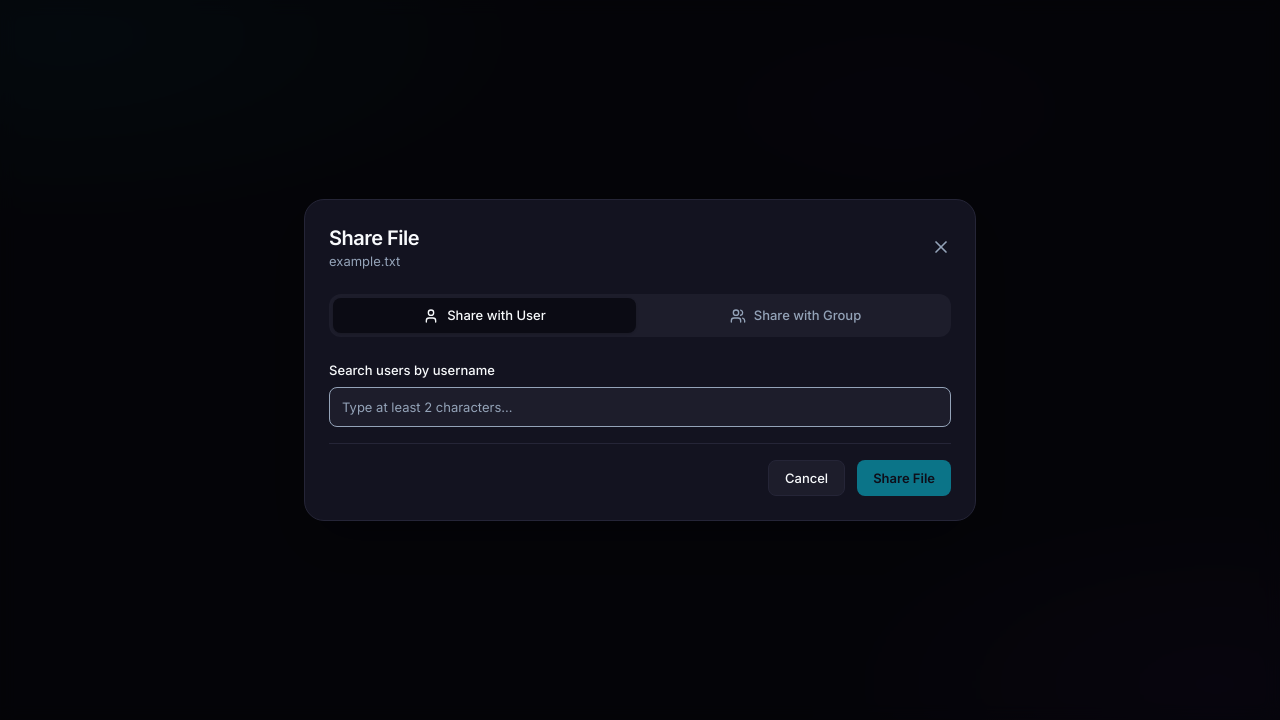
direct sharing uses the real lookup and verifies file access › reports lookup unavailability instead of pretending no recipient exists
This screenshot has width=1280, height=720.
Step 1. Type "ada" into the field labelled "Search users by username" → (640, 407), box 329,387 -> 951,427
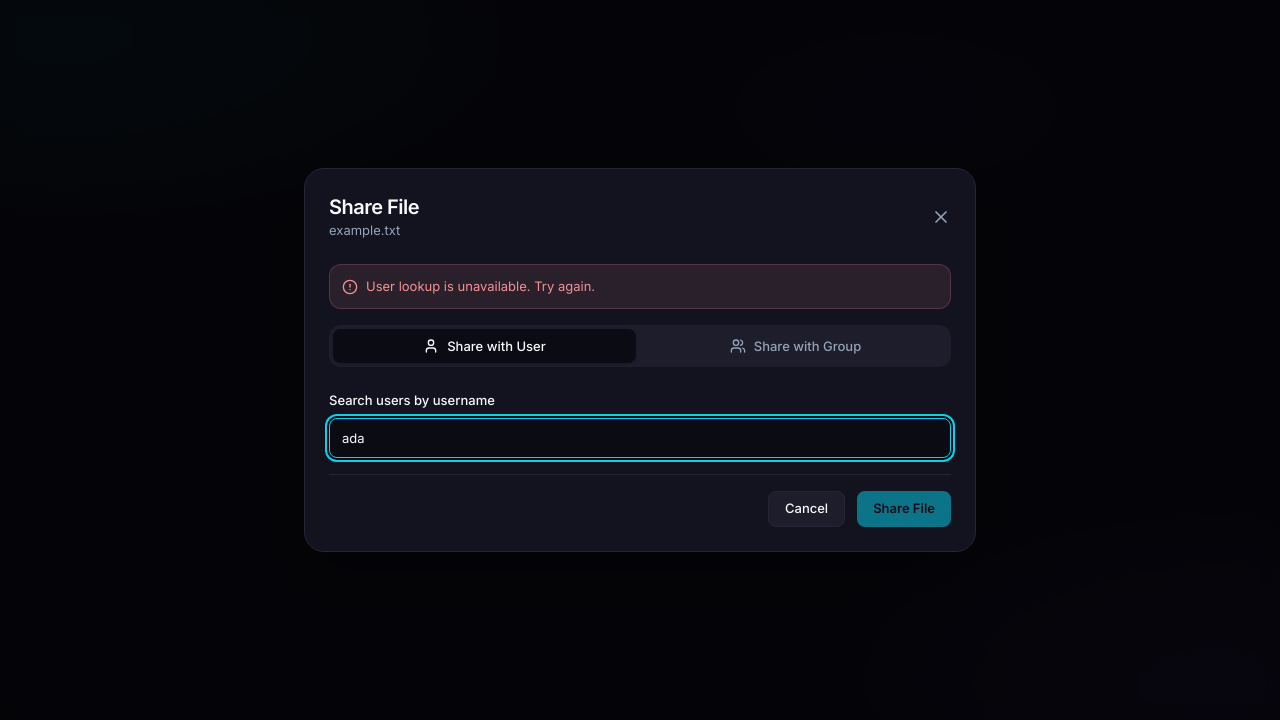
Check: the text "User lookup is unavailable. Try again." is shown, box 366,277 -> 595,296
